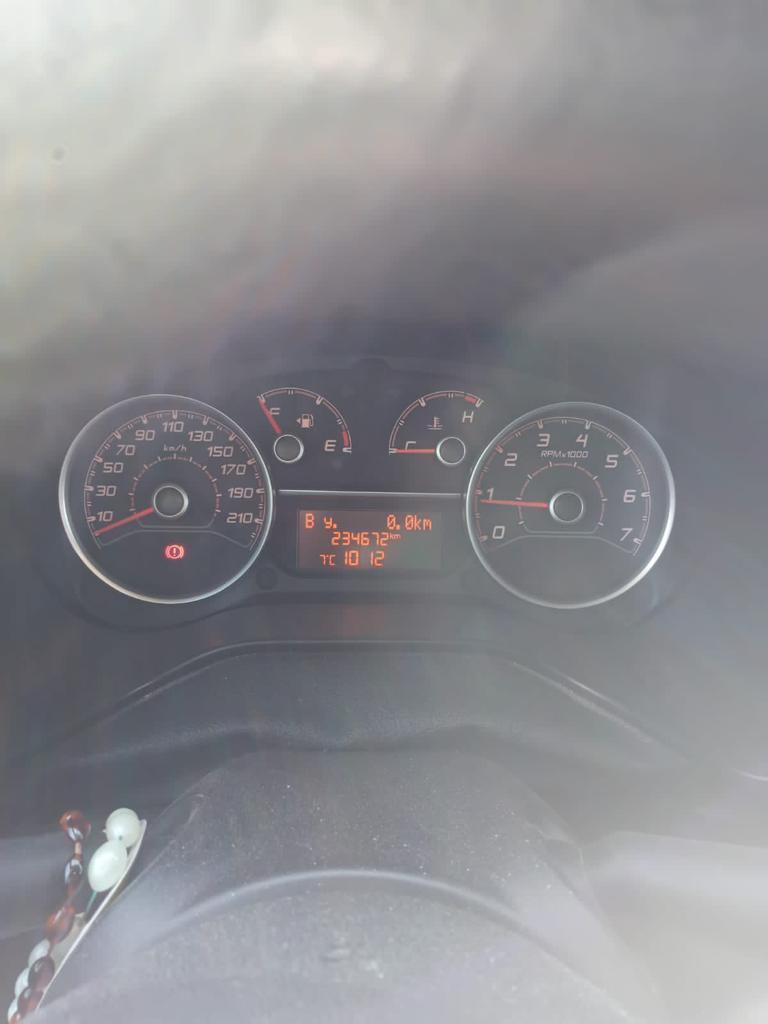,: (332, 521, 338, 529), (395, 523, 401, 530)
0: (348, 549, 359, 566), (386, 513, 396, 530), (404, 514, 413, 530)
1: (368, 550, 374, 567), (343, 550, 347, 565)
2: (374, 549, 384, 566), (330, 531, 340, 546), (379, 530, 388, 546)
3: (341, 530, 350, 545)
4: (350, 531, 360, 544)
6: (360, 531, 369, 546)
7: (371, 530, 379, 546), (319, 554, 325, 566)
X: (304, 512, 314, 528), (422, 518, 431, 531), (414, 514, 421, 530), (323, 516, 332, 528), (329, 552, 336, 566), (393, 532, 400, 539), (389, 530, 393, 539)
odometer: (296, 506, 445, 571)
